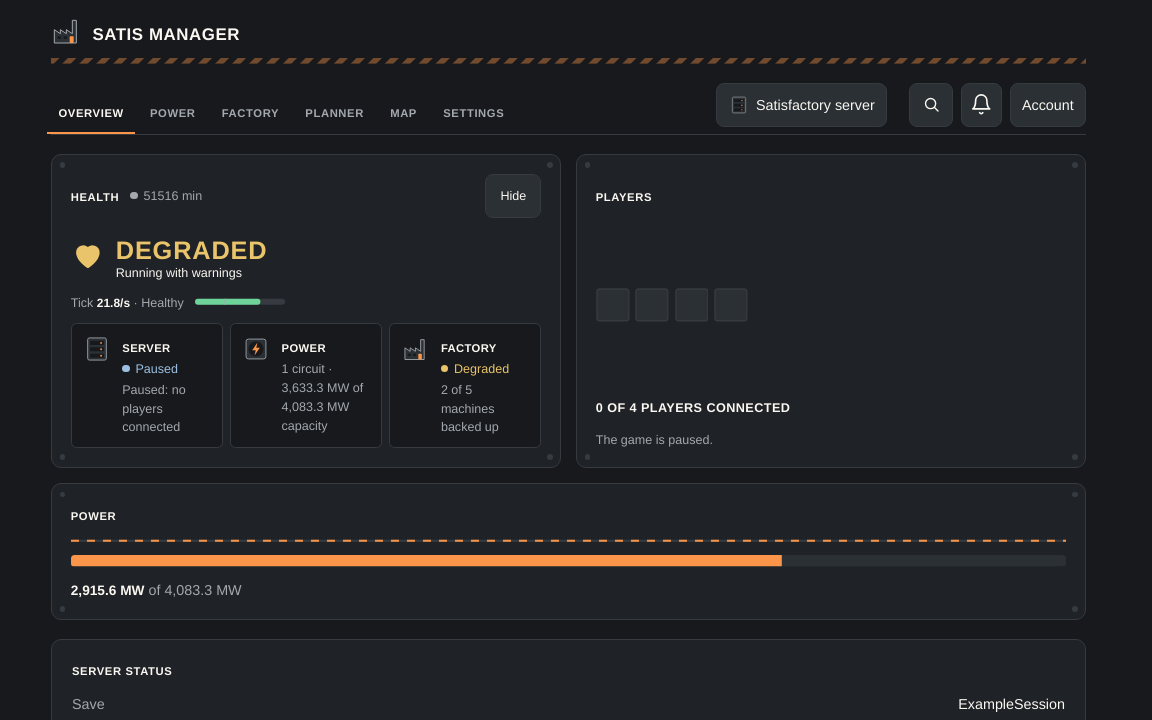
Scenario: the paused banner › comes back on the other pages
Expected: the list named "Sections" is shown, [71, 323, 541, 448]
Click the link "Factory" at (250, 111), box [222, 102, 279, 120]
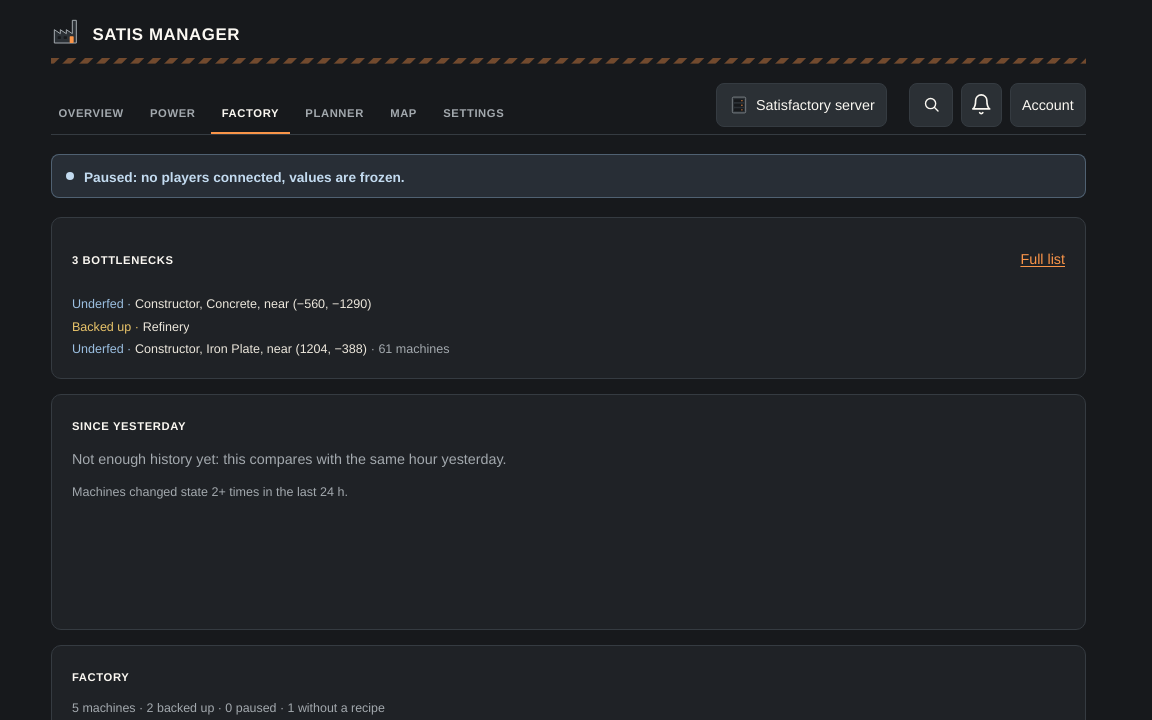
Expected: the text "Paused: no players connected, values are frozen." is shown, [51, 154, 1086, 198]
